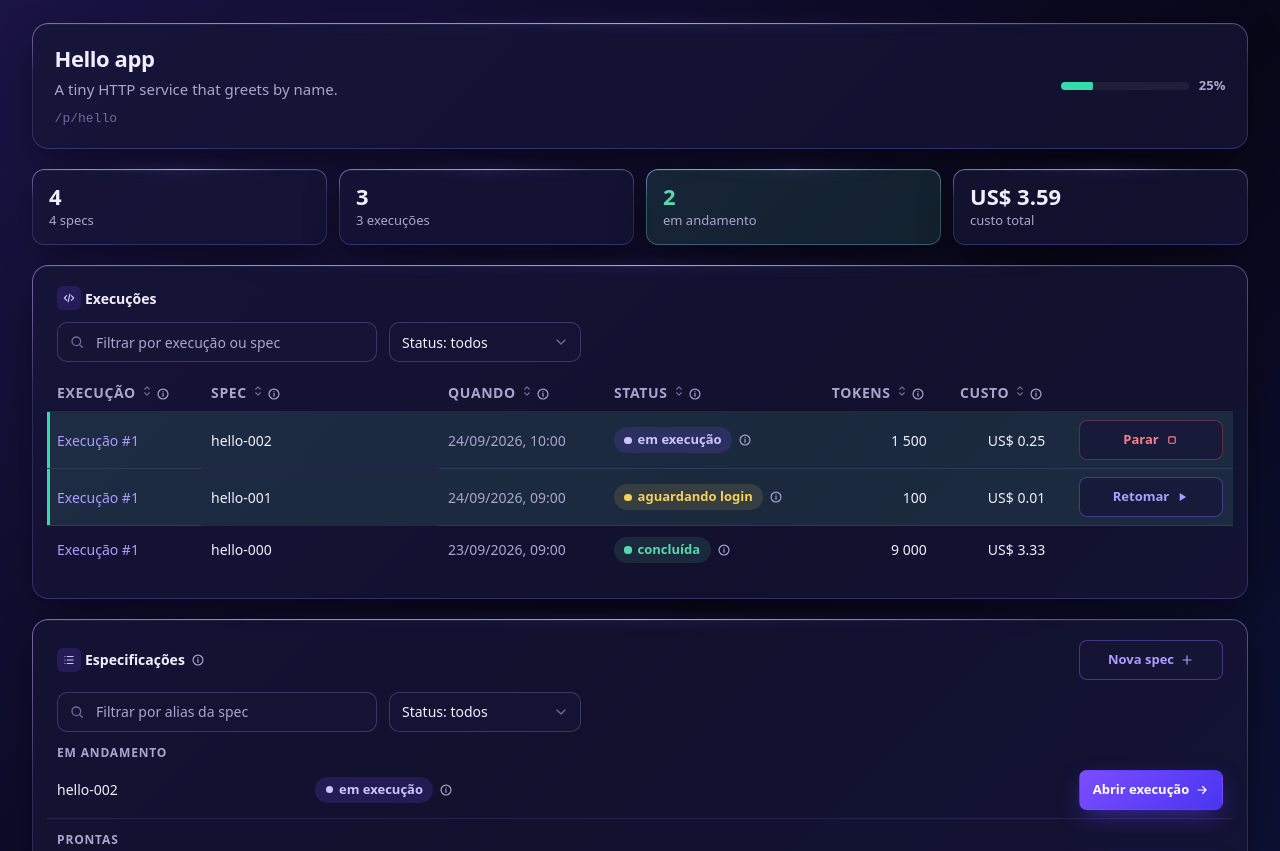
Scenario: ProjectHubView › a failed suggestion leaves the id field to fill by hand, and Cancelar closes the panel
Click the button with test id "open-new-spec". click: (1151, 660)
box: [1079,640,1223,680]
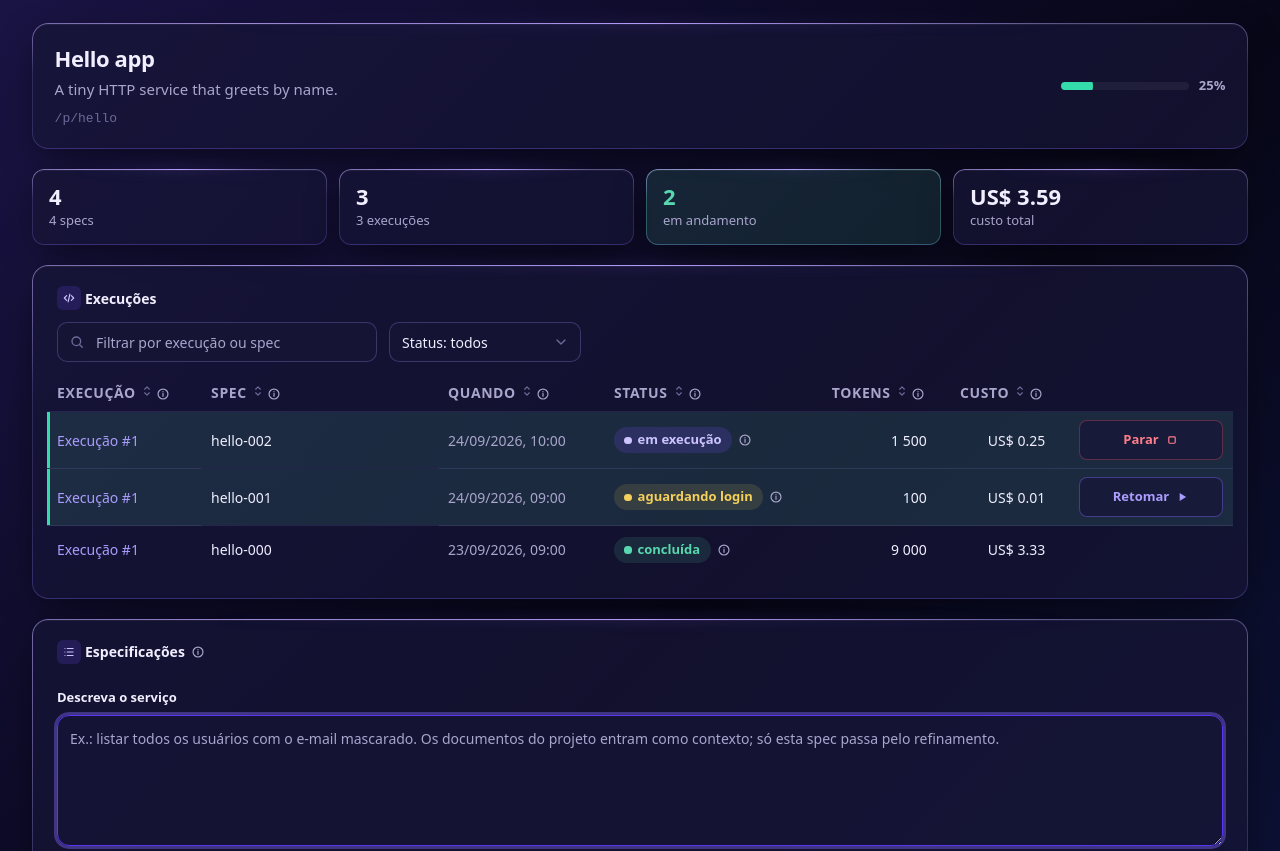
Replace the text in the text box with test id "new-spec-description" with "Listar usuários". click: (640, 781)
box: [57,715,1223,846]
(page scrolled)
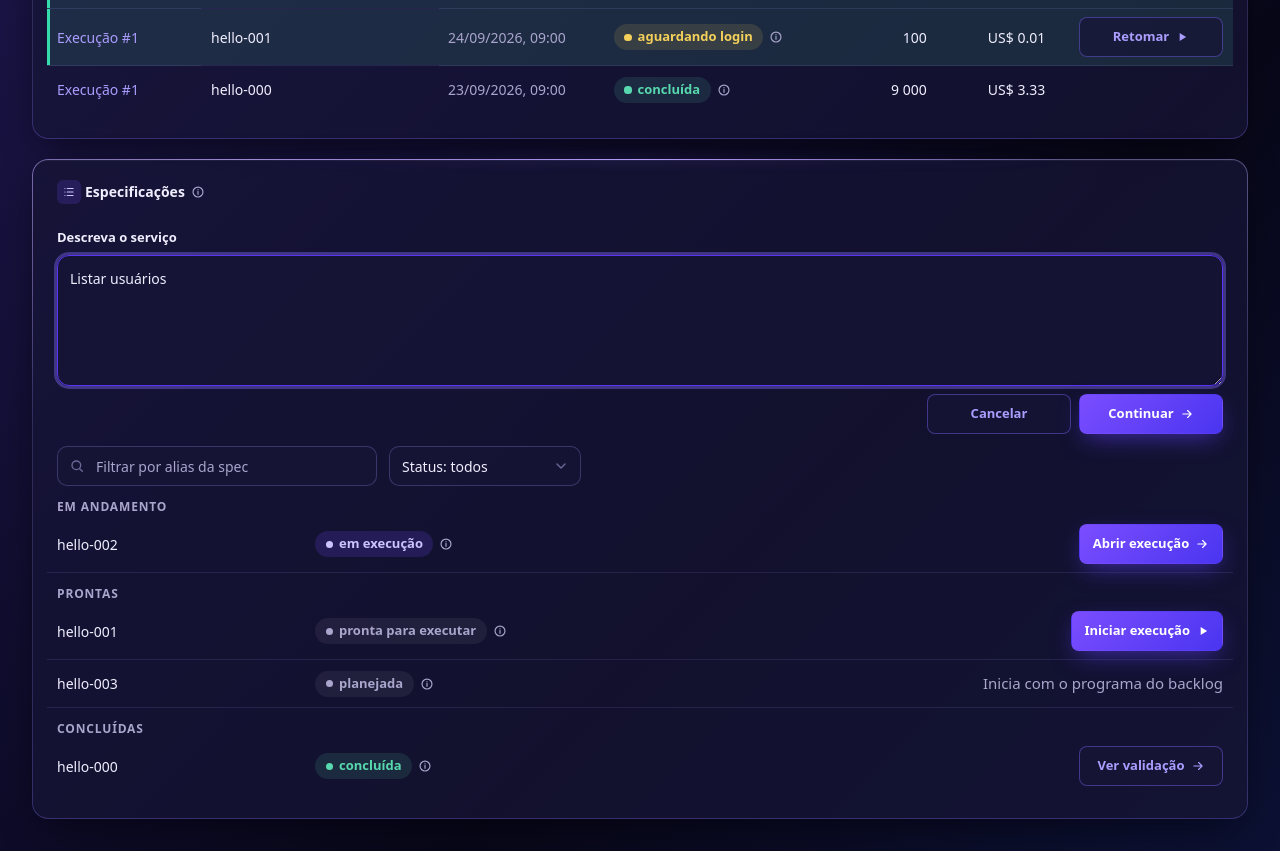
Click the button with test id "continue-new-spec". click: (1151, 414)
box: [1079,394,1223,434]
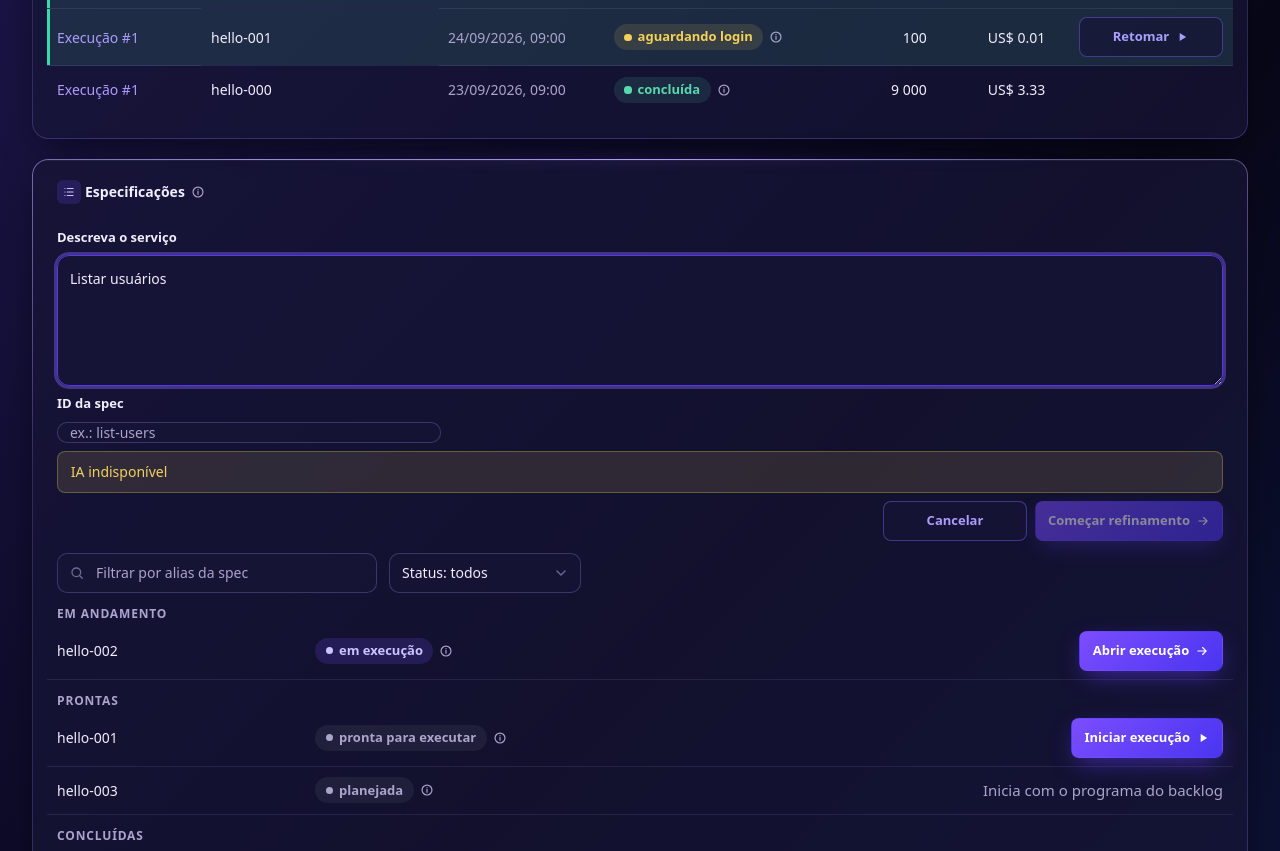
Expected: the message reads "IA indisponível", [71,462,167,481]
Expected: the button with test id "new-spec" is disabled, [1035,501,1223,541]
Type "list-users" into the field with test id "new-spec-id". click: (249, 432)
box: [57,422,441,443]
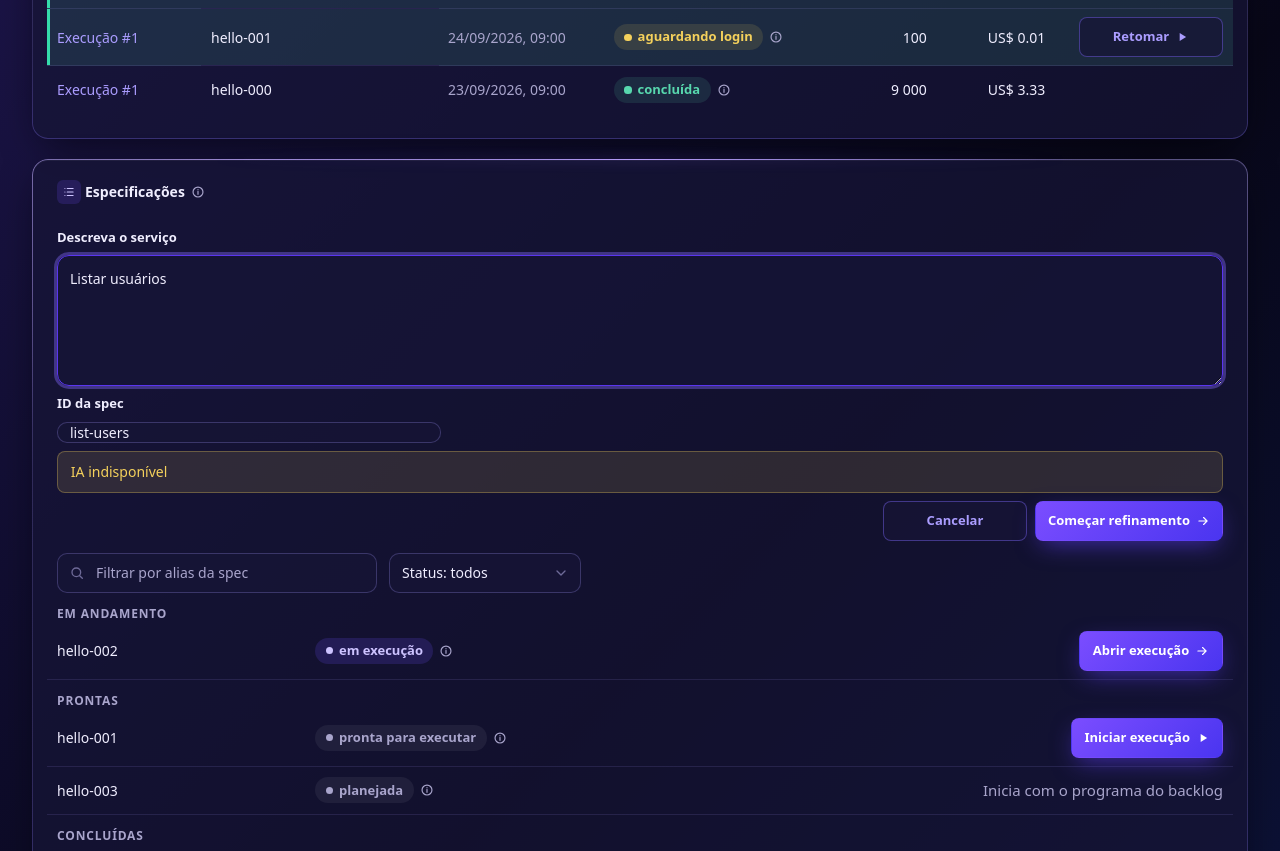
Click the button with test id "new-spec". click: (1129, 521)
box: [1035,501,1223,541]
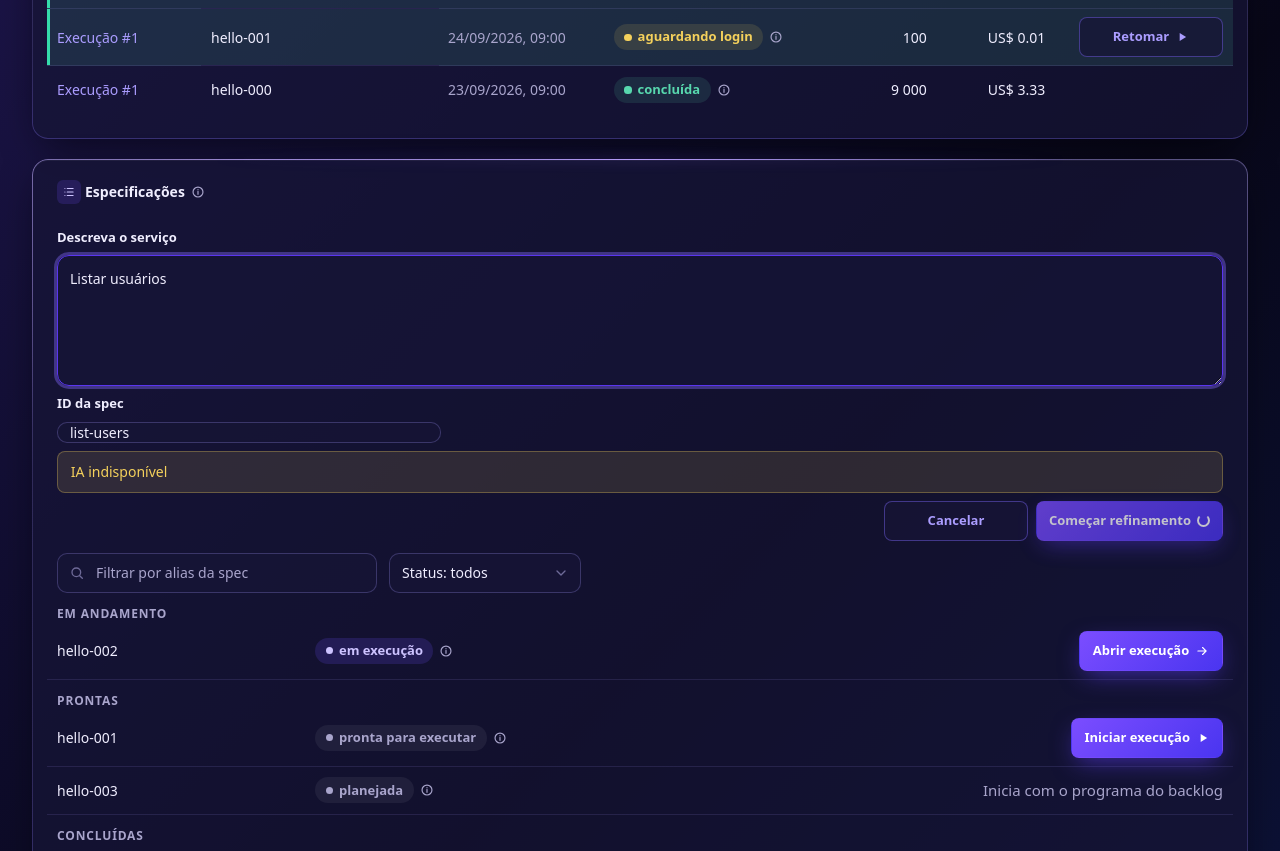
Click the button with test id "cancel-new-spec". click: (956, 521)
box: [884,501,1028,541]
(page scrolled)
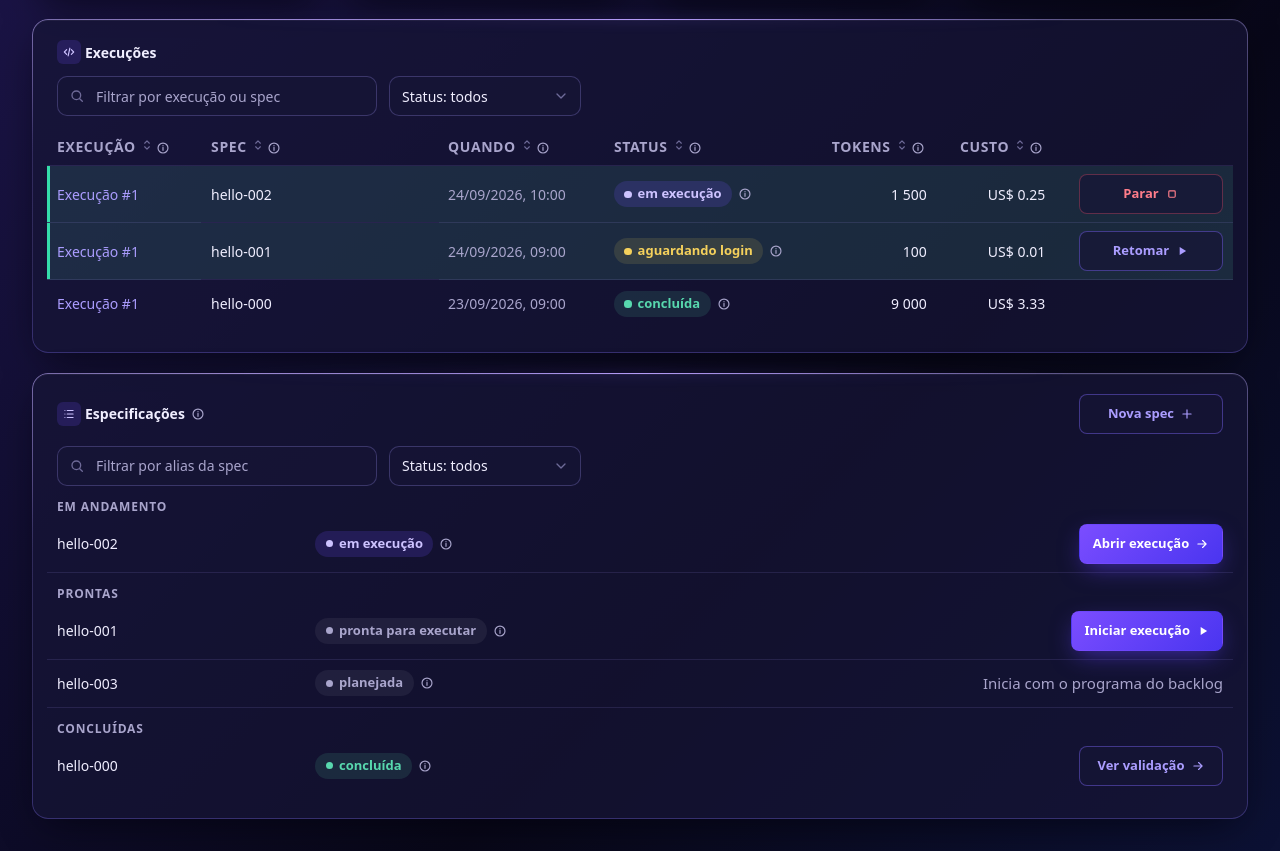
Expected: the label with test id "new-spec-description" is gone
